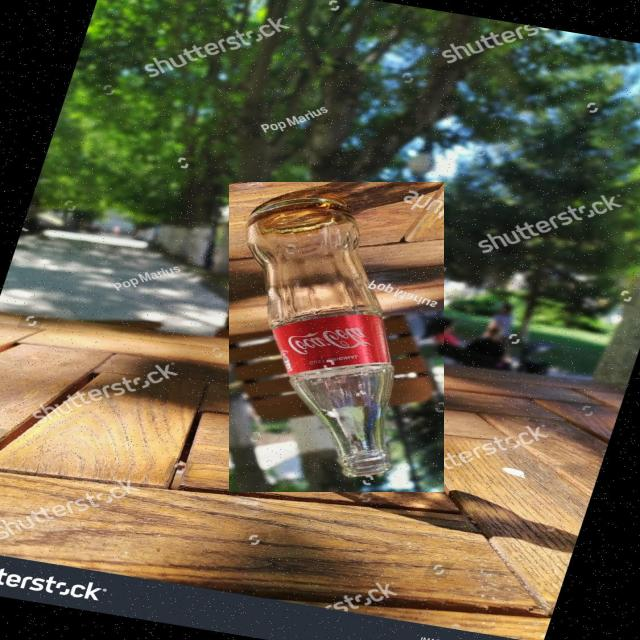coca-cola: (229, 182, 444, 492)
